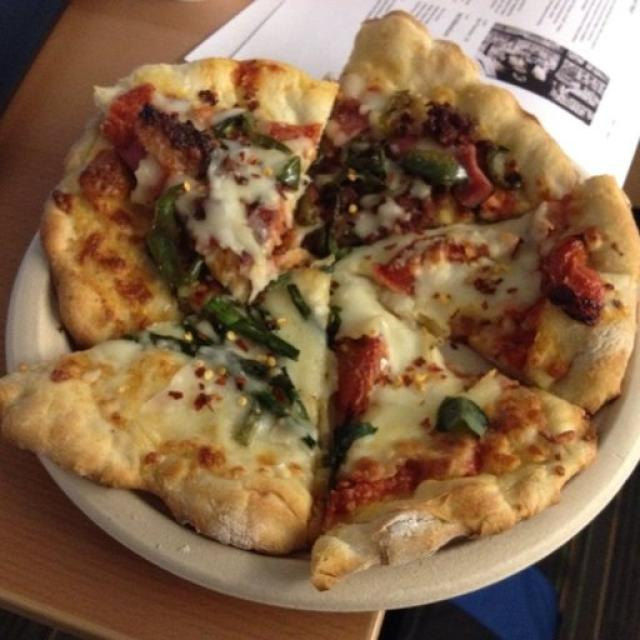Basil: (204, 300, 310, 361), (140, 188, 189, 300), (227, 113, 310, 165), (394, 145, 467, 184), (431, 396, 493, 439), (486, 141, 527, 198), (338, 412, 376, 473), (282, 279, 324, 329), (277, 367, 312, 421), (340, 149, 386, 190), (300, 226, 338, 259), (276, 156, 310, 190), (252, 388, 286, 418), (314, 177, 340, 214), (238, 402, 263, 438), (237, 355, 267, 382)
Pizza: (0, 12, 640, 596)
Tomato: (377, 237, 475, 292), (333, 334, 379, 425), (455, 145, 483, 215)
